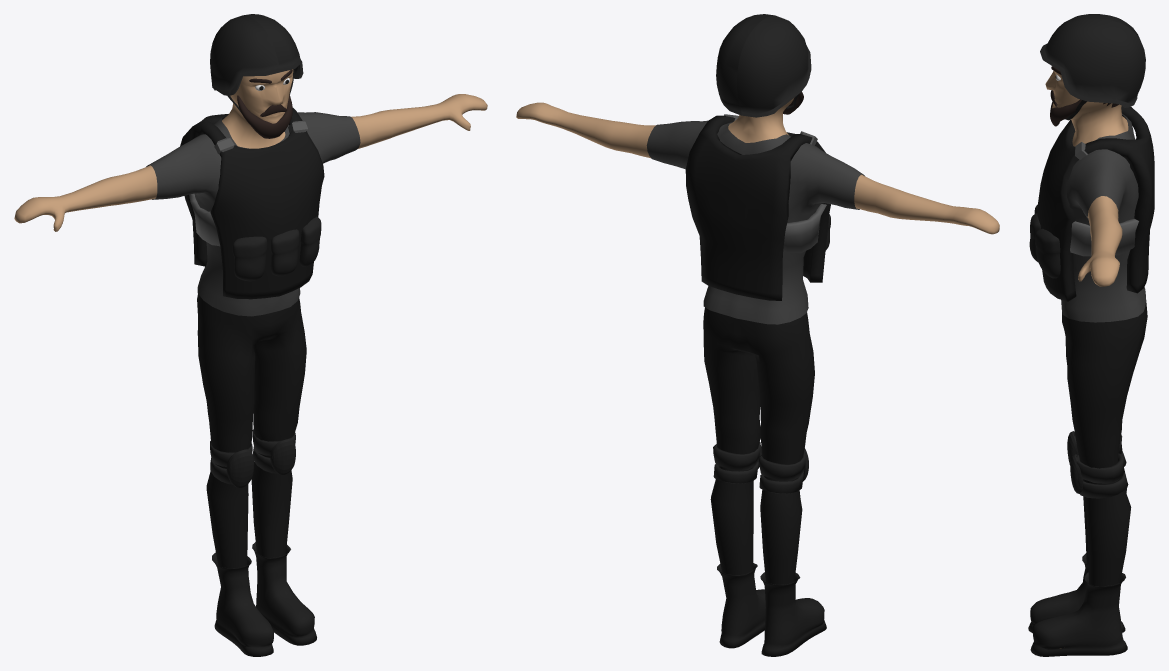
File: chracter-2.fbx
3 renders of one model, left to right at view 1: azimuth 30°, elevation 25°; view 2: azimuth 150°, elevation 25°; view 3: azimuth 270°, elevation 25°, orthographic. The views are drawn at different scales.
Visible parts, largest first — view 1: chracter-2; view 2: chracter-2; view 3: chracter-2.
Boxes of the visible parts, bbox=[...] form: chracter-2: bbox=[14, 14, 487, 656]; chracter-2: bbox=[516, 14, 999, 656]; chracter-2: bbox=[1028, 14, 1154, 656].
Size of the model in its own units: 328 by 406 by 75.15.
